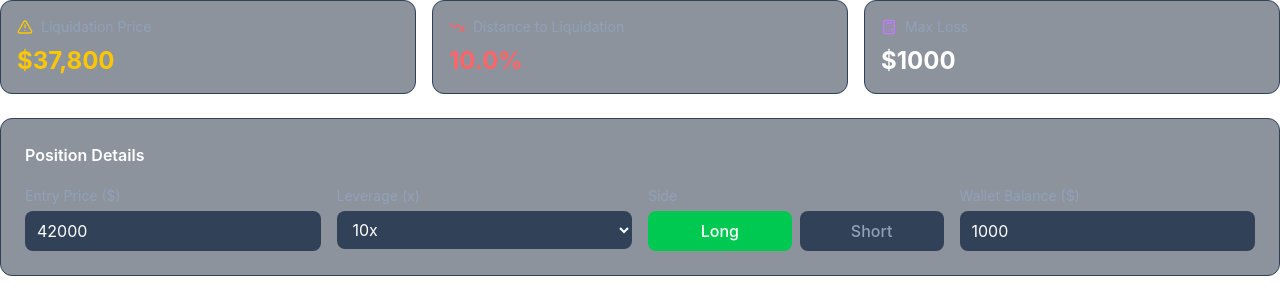
Test: LiquidationCalculator › updates wallet balance correctly
// Second input is wallet balance
Replace the text in the number field below "Wallet Balance ($)" with "5000": (1107, 231) [960,211,1255,251]
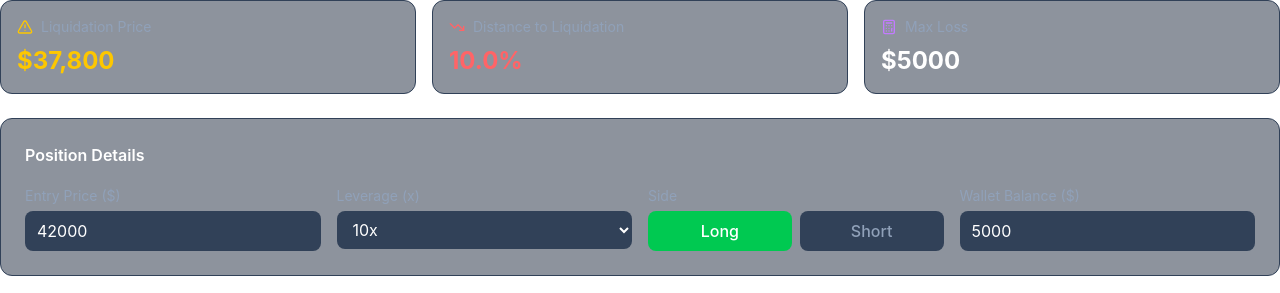
Now the text "$5000" is shown, box [881,46,960,75]
